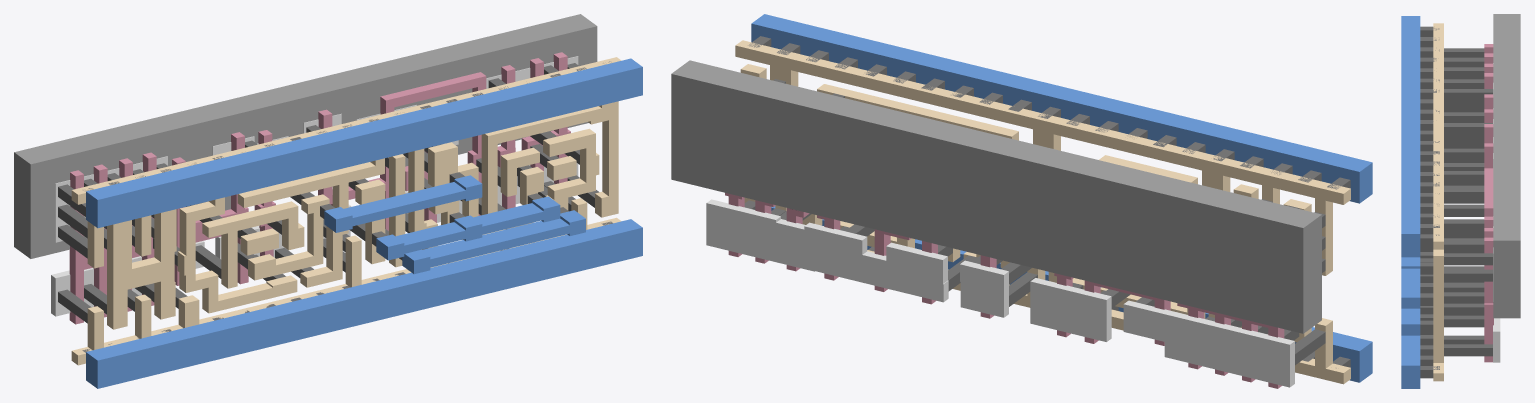
The model's file is sky130_fd_sc_hd__xnor3_4.gds.gltf.
3 views of the same model, side by side, from view 1: azimuth 30°, elevation 25°; view 2: azimuth 150°, elevation 25°; view 3: azimuth 270°, elevation 25° (orthographic). The views are drawn at different scales.
Parts seen in each view (by area): view 1: sky130_fd_sc_hd__xnor3_4_met1, sky130_fd_sc_hd__xnor3_4_li1, sky130_fd_sc_hd__xnor3_4_nwell, sky130_fd_sc_hd__xnor3_4_poly, sky130_fd_sc_hd__xnor3_4_licon, sky130_fd_sc_hd__xnor3_4_diff, sky130_fd_sc_hd__xnor3_4_mcon; view 2: sky130_fd_sc_hd__xnor3_4_nwell, sky130_fd_sc_hd__xnor3_4_diff, sky130_fd_sc_hd__xnor3_4_li1, sky130_fd_sc_hd__xnor3_4_met1, sky130_fd_sc_hd__xnor3_4_mcon, sky130_fd_sc_hd__xnor3_4_poly, sky130_fd_sc_hd__xnor3_4_licon; view 3: sky130_fd_sc_hd__xnor3_4_licon, sky130_fd_sc_hd__xnor3_4_nwell, sky130_fd_sc_hd__xnor3_4_met1, sky130_fd_sc_hd__xnor3_4_mcon, sky130_fd_sc_hd__xnor3_4_li1, sky130_fd_sc_hd__xnor3_4_poly, sky130_fd_sc_hd__xnor3_4_diff.
Boxes of the visible parts, <box> form: sky130_fd_sc_hd__xnor3_4_met1: <box>86,58,642,388</box>; sky130_fd_sc_hd__xnor3_4_li1: <box>71,57,621,365</box>; sky130_fd_sc_hd__xnor3_4_nwell: <box>14,14,597,258</box>; sky130_fd_sc_hd__xnor3_4_poly: <box>69,52,570,324</box>; sky130_fd_sc_hd__xnor3_4_licon: <box>58,63,599,323</box>; sky130_fd_sc_hd__xnor3_4_diff: <box>51,56,578,316</box>; sky130_fd_sc_hd__xnor3_4_mcon: <box>82,61,612,352</box>; sky130_fd_sc_hd__xnor3_4_nwell: <box>671,60,1321,333</box>; sky130_fd_sc_hd__xnor3_4_diff: <box>706,199,1294,387</box>; sky130_fd_sc_hd__xnor3_4_li1: <box>735,40,1350,384</box>; sky130_fd_sc_hd__xnor3_4_met1: <box>751,14,1372,382</box>; sky130_fd_sc_hd__xnor3_4_mcon: <box>748,36,1350,368</box>; sky130_fd_sc_hd__xnor3_4_poly: <box>725,193,1284,388</box>; sky130_fd_sc_hd__xnor3_4_licon: <box>744,79,1325,365</box>; sky130_fd_sc_hd__xnor3_4_licon: <box>1444,48,1492,356</box>; sky130_fd_sc_hd__xnor3_4_nwell: <box>1493,14,1520,318</box>; sky130_fd_sc_hd__xnor3_4_met1: <box>1401,16,1420,388</box>; sky130_fd_sc_hd__xnor3_4_mcon: <box>1420,26,1439,378</box>; sky130_fd_sc_hd__xnor3_4_li1: <box>1433,23,1443,381</box>; sky130_fd_sc_hd__xnor3_4_poly: <box>1484,44,1493,362</box>; sky130_fd_sc_hd__xnor3_4_diff: <box>1493,63,1500,362</box>.
Bounding box in the file's own units: 10.04 × 3.2 × 2.24.
